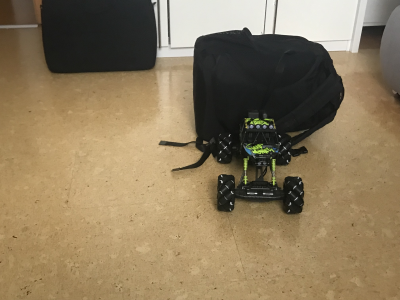remote control car: (214, 111, 308, 217)
